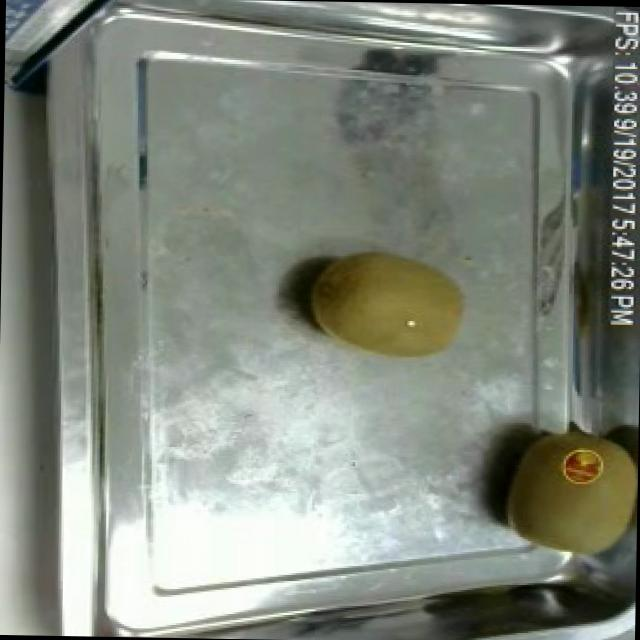Fruit: (486, 419, 638, 576), (298, 242, 478, 368)
